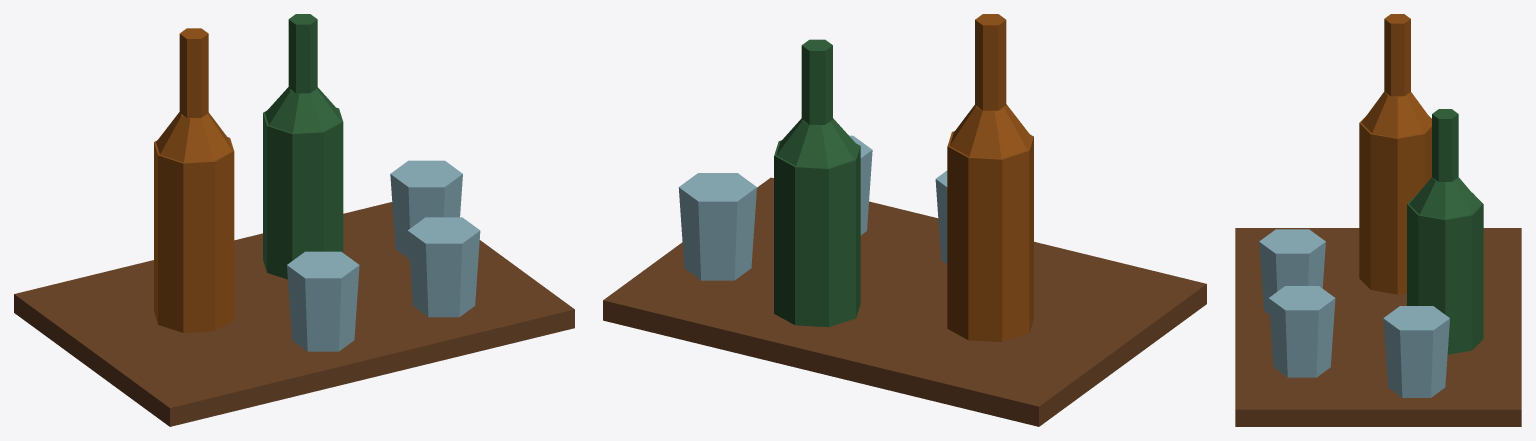
The model's file is SM_Whiskey_Set.obj.
The picture shows the model from 3 angles, left to right: view 1: azimuth 30°, elevation 25°; view 2: azimuth 150°, elevation 25°; view 3: azimuth 270°, elevation 25°; orthographic projection. The views are drawn at different scales.
Visible parts, largest first — view 1: SM_Whiskey_Set; view 2: SM_Whiskey_Set; view 3: SM_Whiskey_Set.
Part boxes in pixels (x1,y1,x2,y2): SM_Whiskey_Set: (14, 14, 574, 426); SM_Whiskey_Set: (603, 14, 1206, 426); SM_Whiskey_Set: (1235, 14, 1521, 426).
Size of the model in its own units: 0.45 by 0.32 by 0.3.
